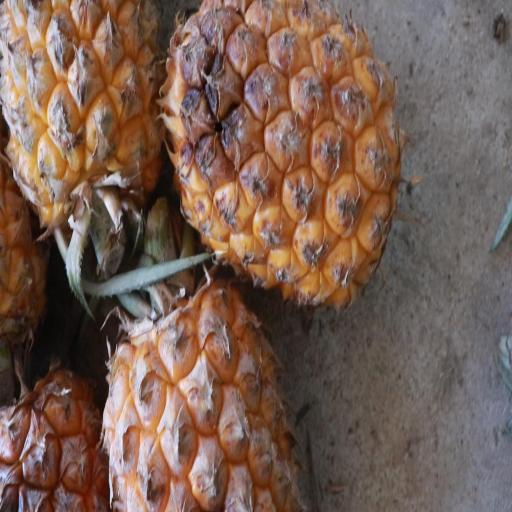Pineapple - v8 v1: (152, 11, 406, 318), (98, 254, 293, 512), (0, 1, 157, 290)
